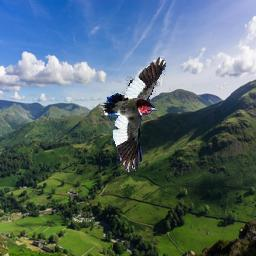Woodpecker: (98, 56, 166, 172)
